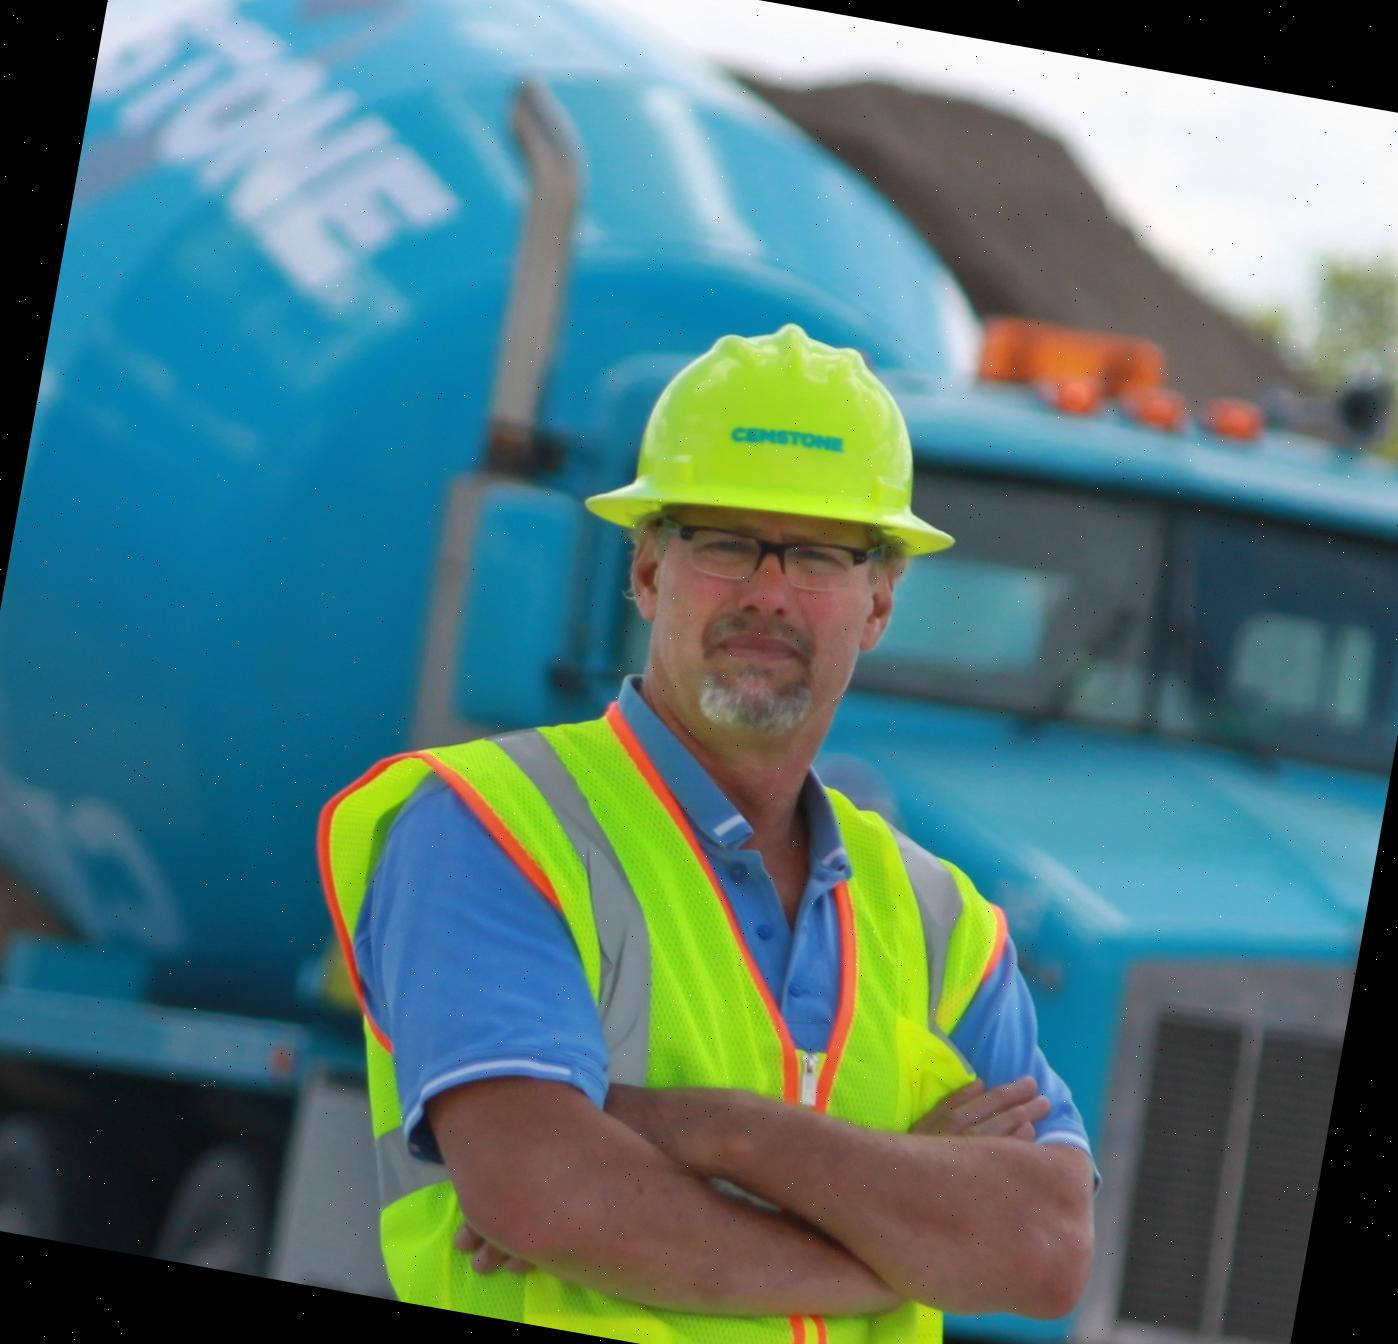helmet: (577, 295, 990, 584)
wear: (232, 688, 1053, 1344)
